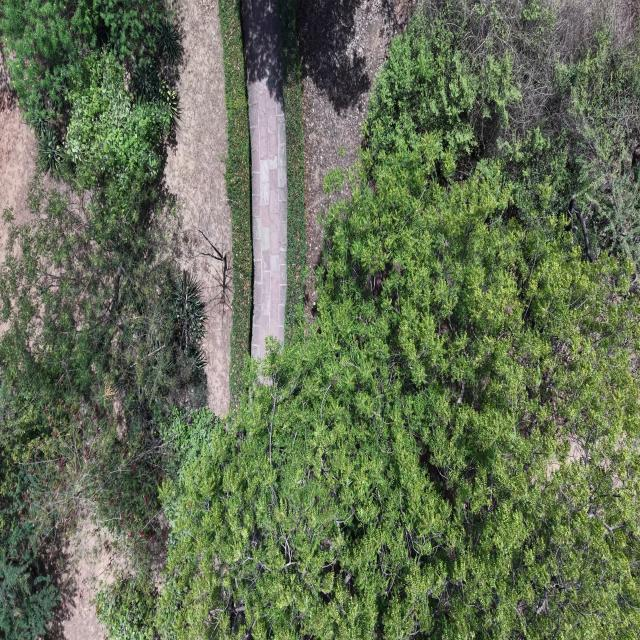DRY_AREA: (298, 0, 413, 315), (166, 0, 232, 414), (166, 0, 232, 413), (166, 0, 231, 414), (243, 0, 287, 358), (48, 511, 128, 639), (55, 515, 123, 639), (0, 48, 36, 263), (0, 51, 36, 224), (0, 58, 36, 224)
VEGETATION_TREE: (0, 0, 639, 639), (155, 2, 639, 639), (159, 134, 639, 638), (0, 0, 206, 639), (363, 0, 639, 270), (0, 185, 205, 540), (0, 0, 181, 141), (363, 16, 519, 178), (65, 53, 173, 217), (219, 0, 252, 406), (0, 469, 59, 639), (278, 0, 306, 335), (97, 574, 164, 639), (96, 575, 155, 639)
